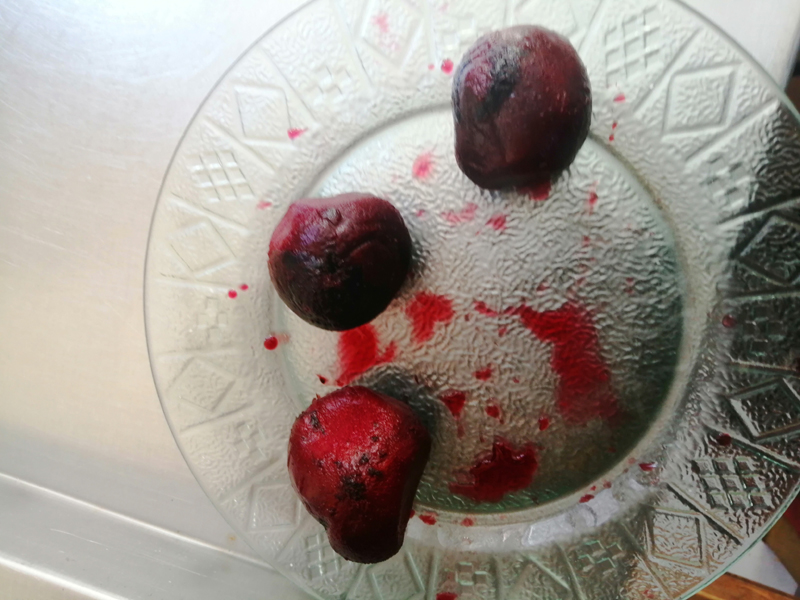beet: (274, 379, 442, 575), (437, 25, 604, 204), (249, 191, 430, 336)
